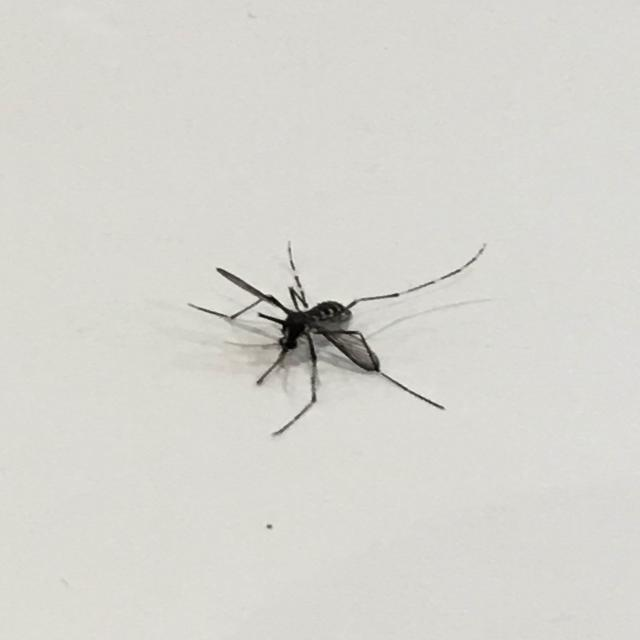albopictus: (183, 226, 481, 436)
